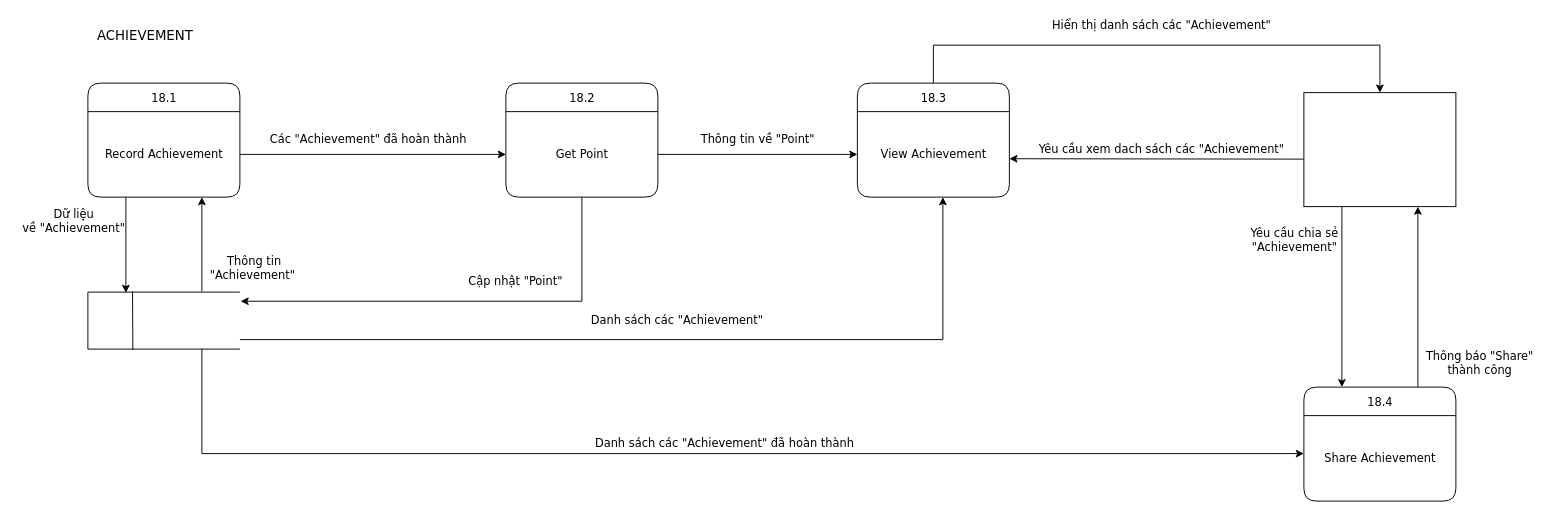
This 1557x518 diagram has some shape labels left out. Here are the shapes that lost their labels. From the top down, the centre of each, then its label:
At point 1379,149: "User".
At point 163,320: "Database".
